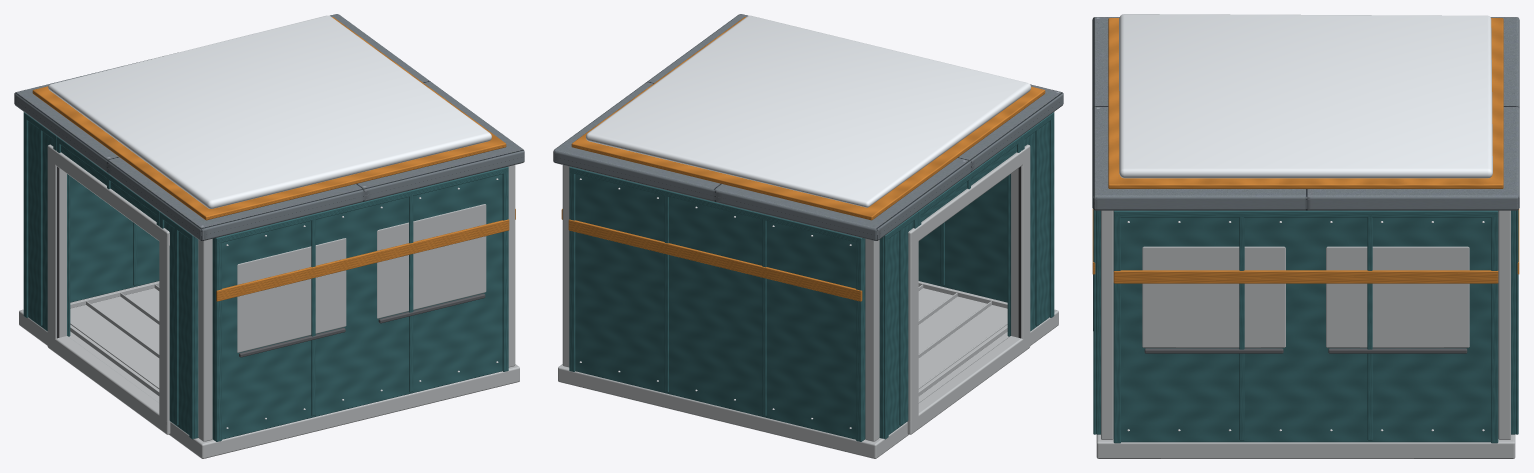
The picture shows the model from 3 angles, left to right: view 1: azimuth 30°, elevation 25°; view 2: azimuth 150°, elevation 25°; view 3: azimuth 270°, elevation 25°; orthographic projection. The views are drawn at different scales.
Parts seen in each view (by area): view 1: habitat-module-window-cap; view 2: habitat-module-window-cap; view 3: habitat-module-window-cap.
Part boxes in pixels (x1,y1,x2,y2): habitat-module-window-cap: (14,14,524,458); habitat-module-window-cap: (553,14,1063,458); habitat-module-window-cap: (1092,14,1519,458).
Size of the model in its own units: 4 by 2.89 by 4.
10 materials, 3 textured.
